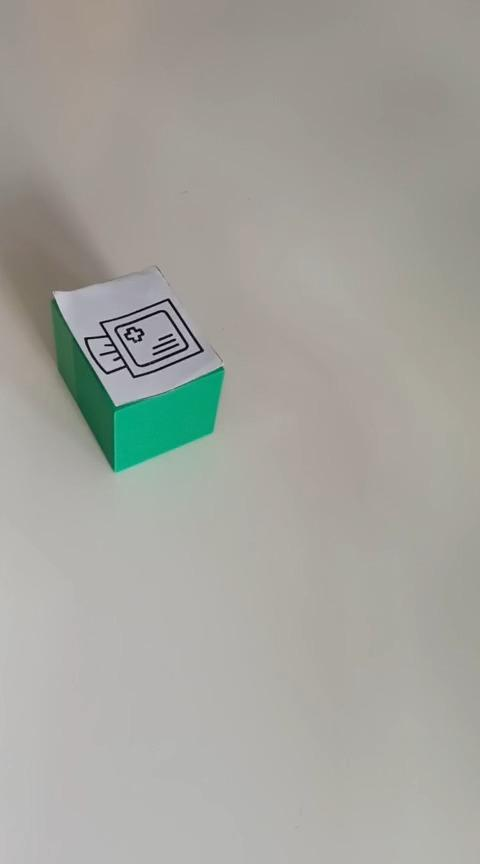Gauze: (49, 263, 225, 473)
